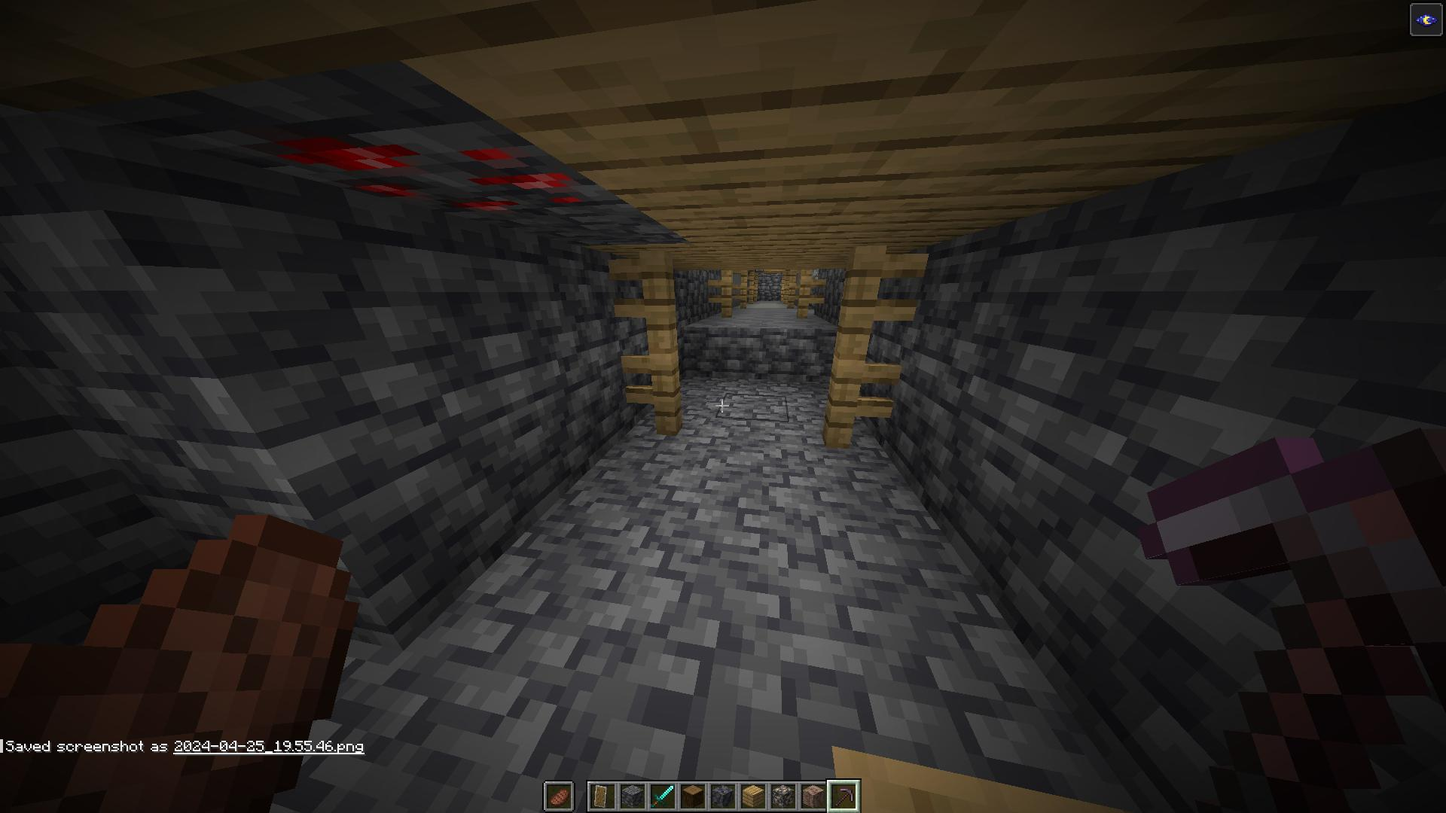redstone ore: (271, 126, 595, 218)
